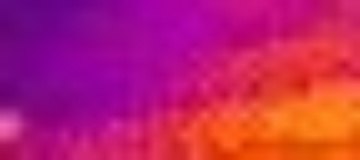Shadow: (1, 1, 190, 123)
